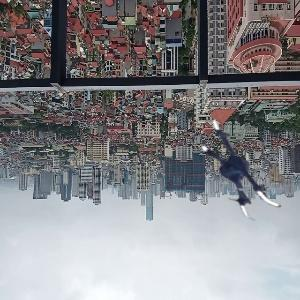drone: (193, 113, 300, 221)
